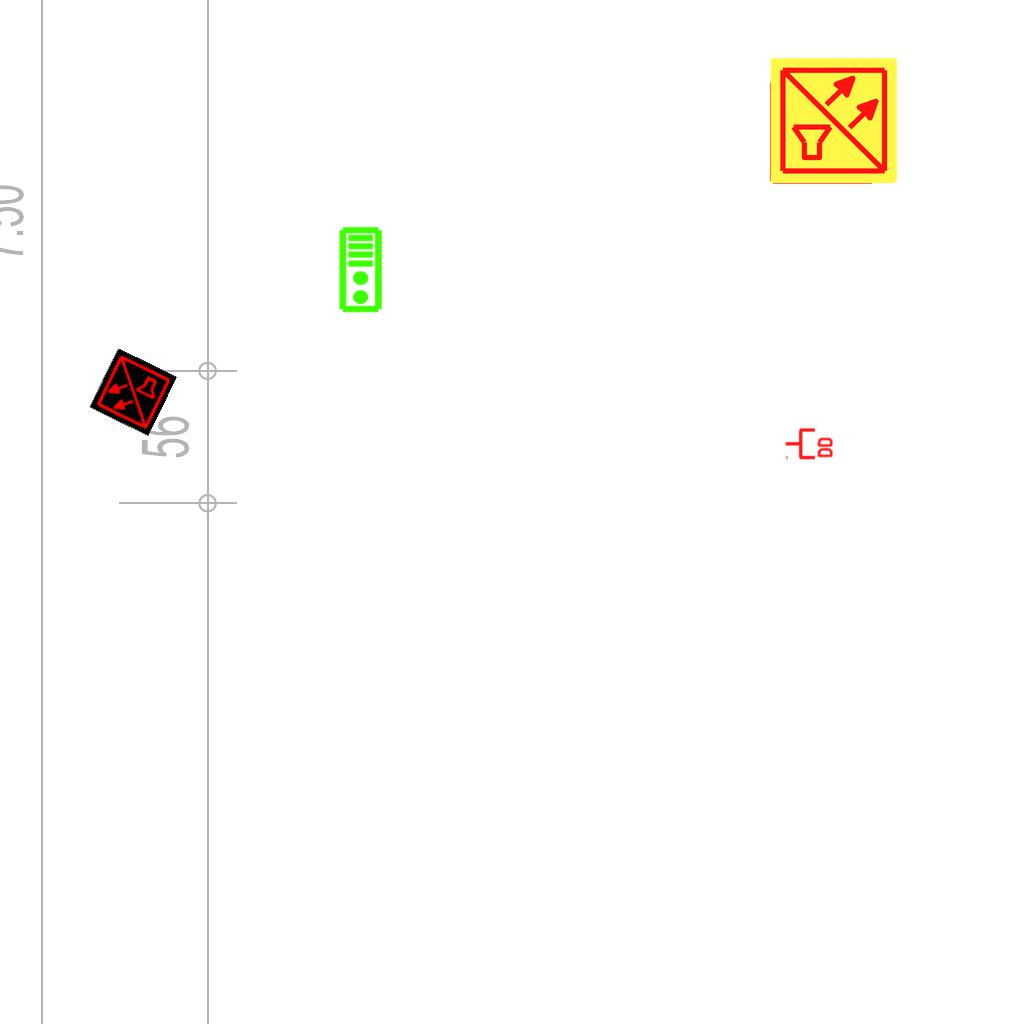Datenanschluss_zweifach: (784, 426, 835, 460)
Gegensprechanlage_mit_Video: (338, 226, 385, 314)
OKW_Multisensormelder_(Kombination_optischer_Rauch-Kahlenmonoxid_Waerme-Melder): (768, 55, 900, 187), (88, 347, 178, 437)
